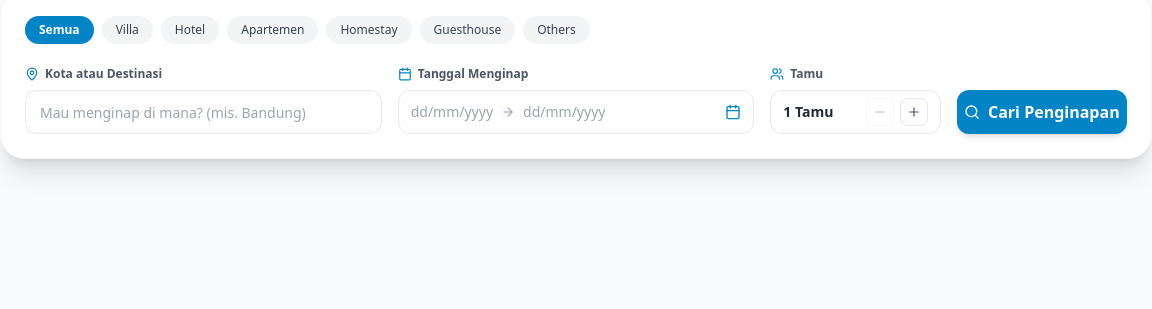
Test: FloatingSearchWidget Organism › fetches OpenCage suggestions and allows selection
The width and height of the screenshot is (1152, 309).
In the field with placeholder "Mau menginap di mana? (mis. Bandung)": (203, 112) x1=25 y1=90 x2=382 y2=134, type "Malio"
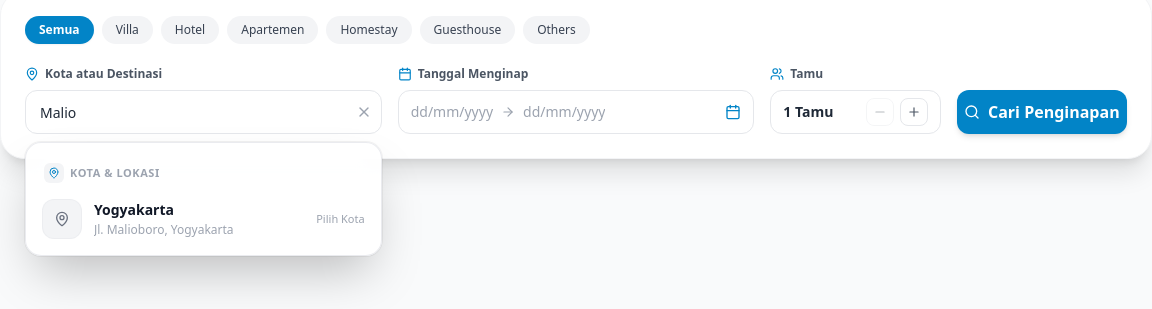
Click the text "Jl. Malioboro, Yogyakarta": (164, 230) x1=94 y1=222 x2=234 y2=238
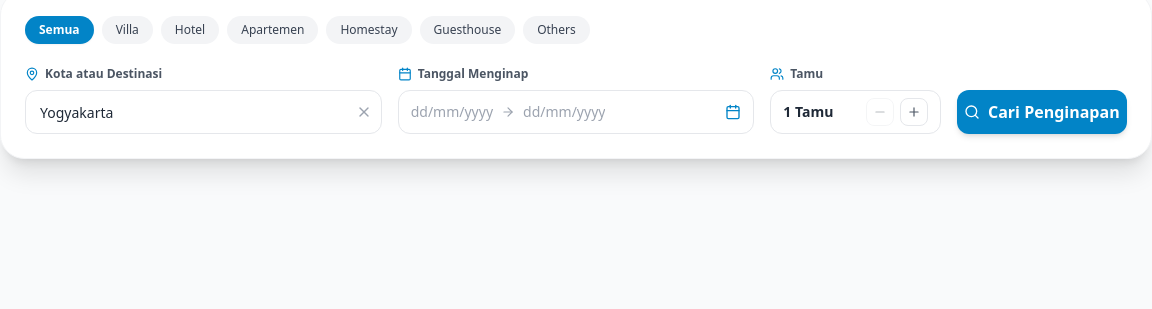
Expected: the field with placeholder "Mau menginap di mana? (mis. Bandung)" holds "Yogyakarta", x1=25 y1=90 x2=382 y2=134
